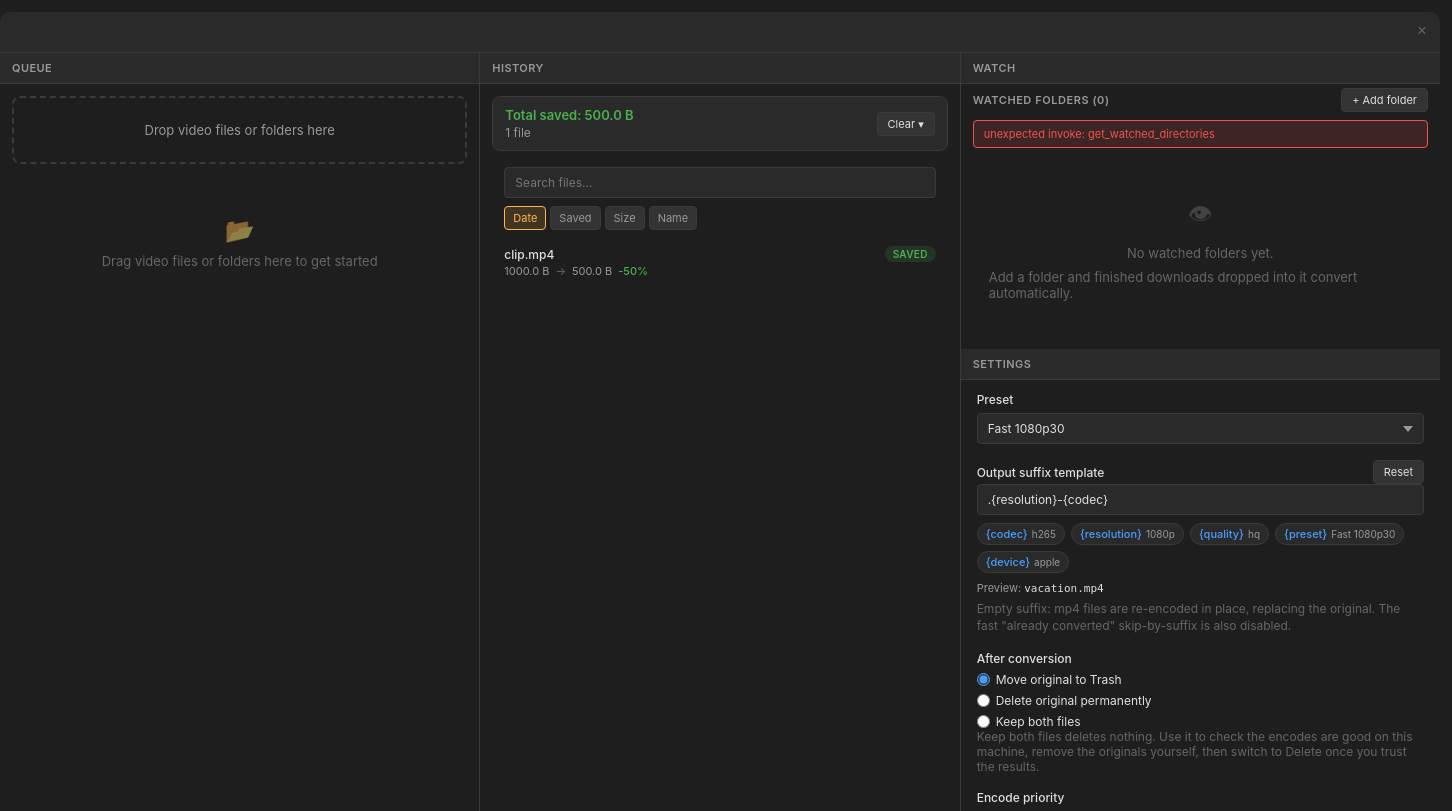
Scenario: History + Settings mounted together (three-col) › flips History's savings label when Settings writes cleanup_mode
Expected: the field with placeholder ".{resolution}-{codec}" holds ".{resolution}-{codec}", [977,484,1424,515]
Expected: the text "Total saved: 500.0 B" is shown, [505,107,634,123]
Click the radio button labelled "Keep both files": (983, 721) [977,715,990,728]
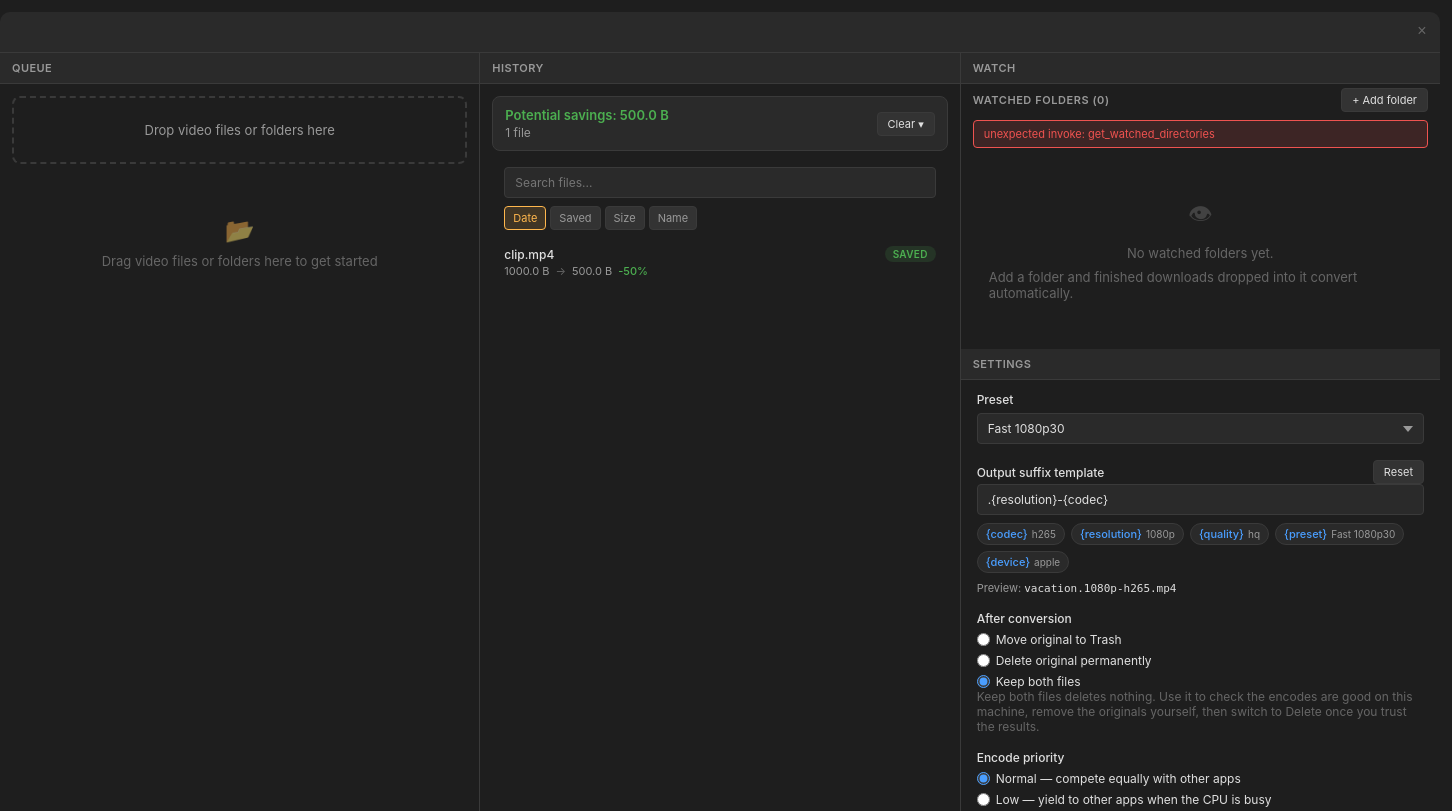
Expected: the text "Potential savings: 500.0 B" is shown, [505,107,669,123]
Expected: the text "Total saved:" is gone
